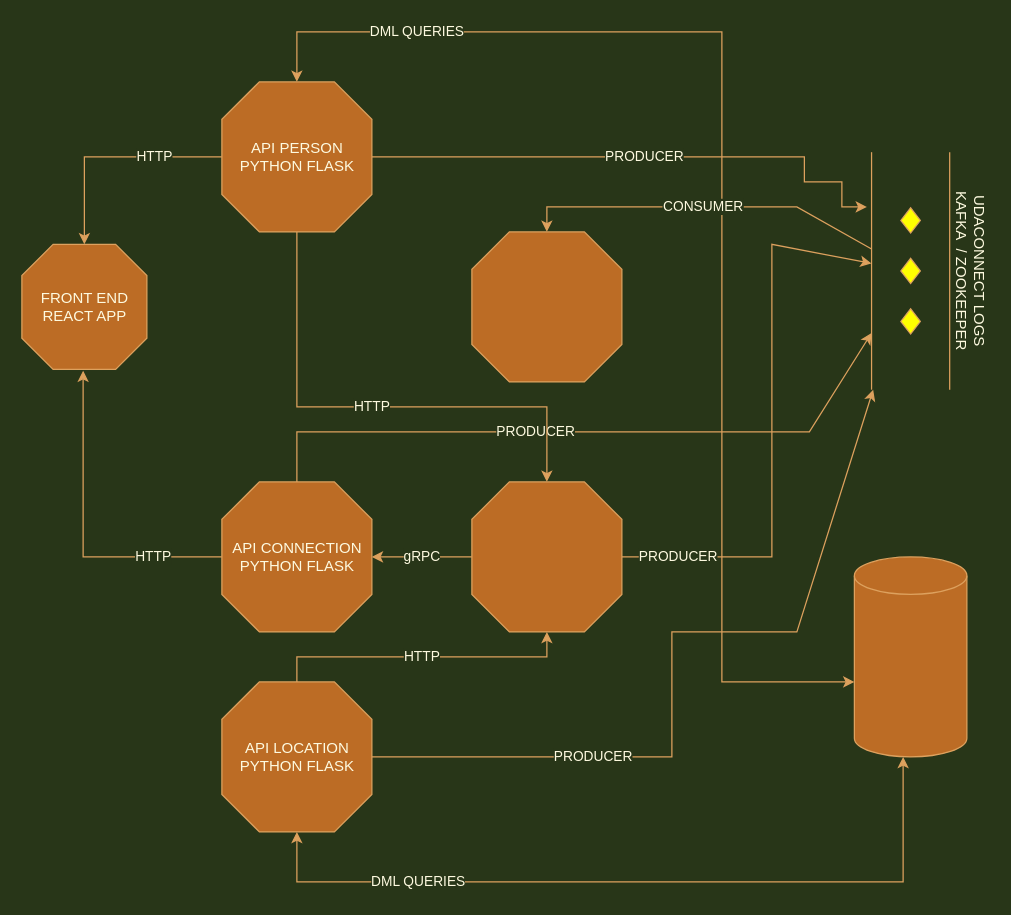
The diagram is 1011 pixels wide and 915 high, and some of its shapes have lost their labels. The box of each missing label's shape, as (x1, y1, x2, y2) in pixels:
DATABASE POSTGRES: (853, 556, 967, 757)
FIND CONTACTS GRPC PYTHON: (471, 481, 622, 632)
LOG CONSUMER KAFKA PYTHON: (471, 231, 622, 382)
